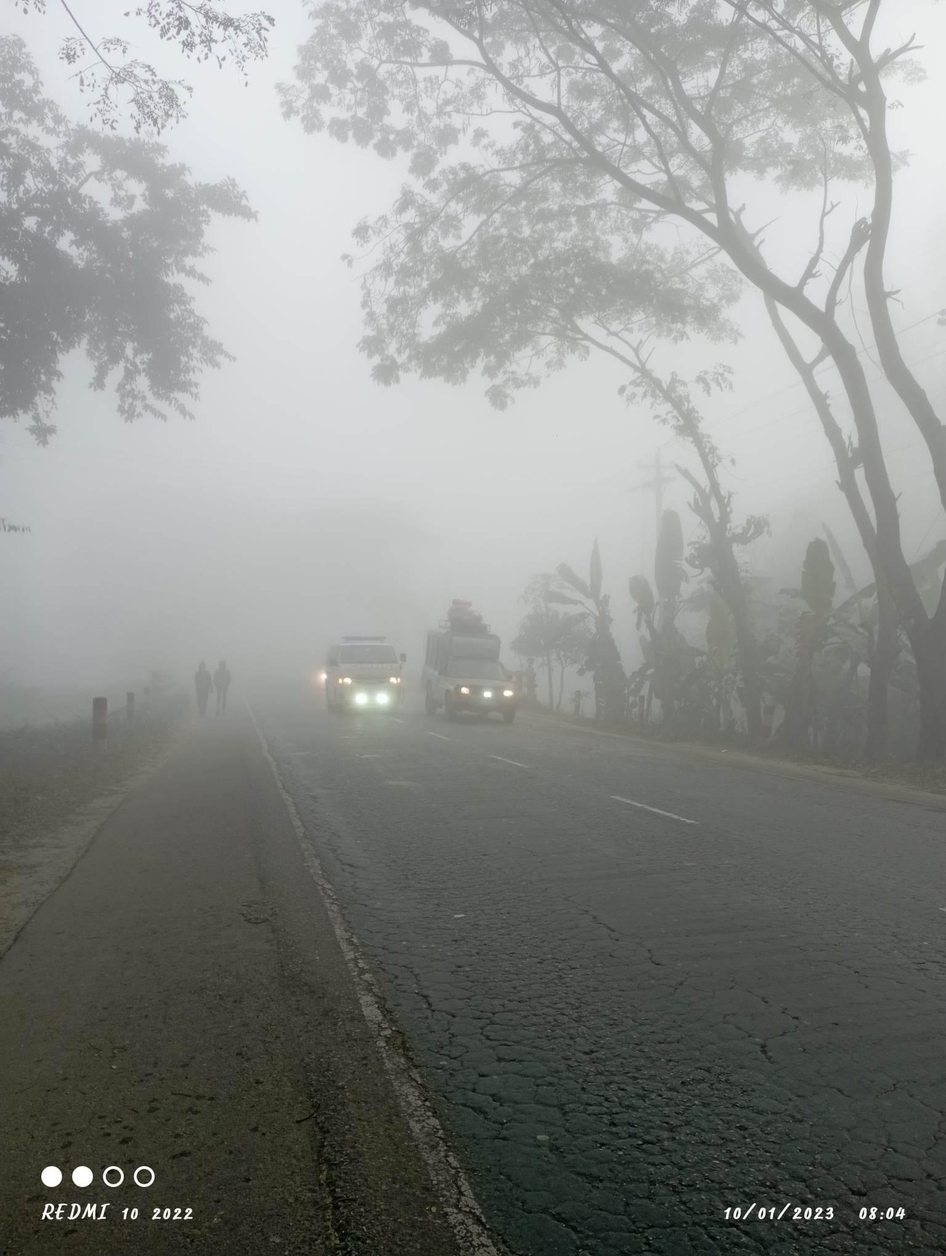Car: (413, 608, 536, 735), (306, 629, 428, 722)
